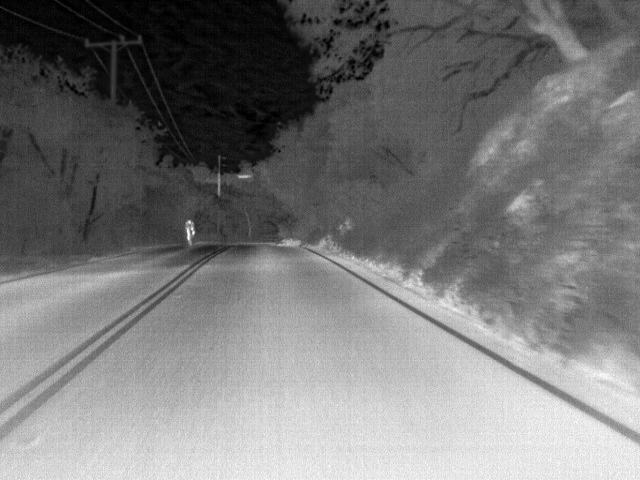person: (183, 218, 196, 246)
